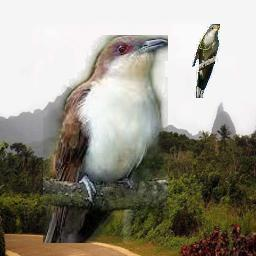Cuckoo: (44, 35, 169, 243), (192, 24, 220, 98)
